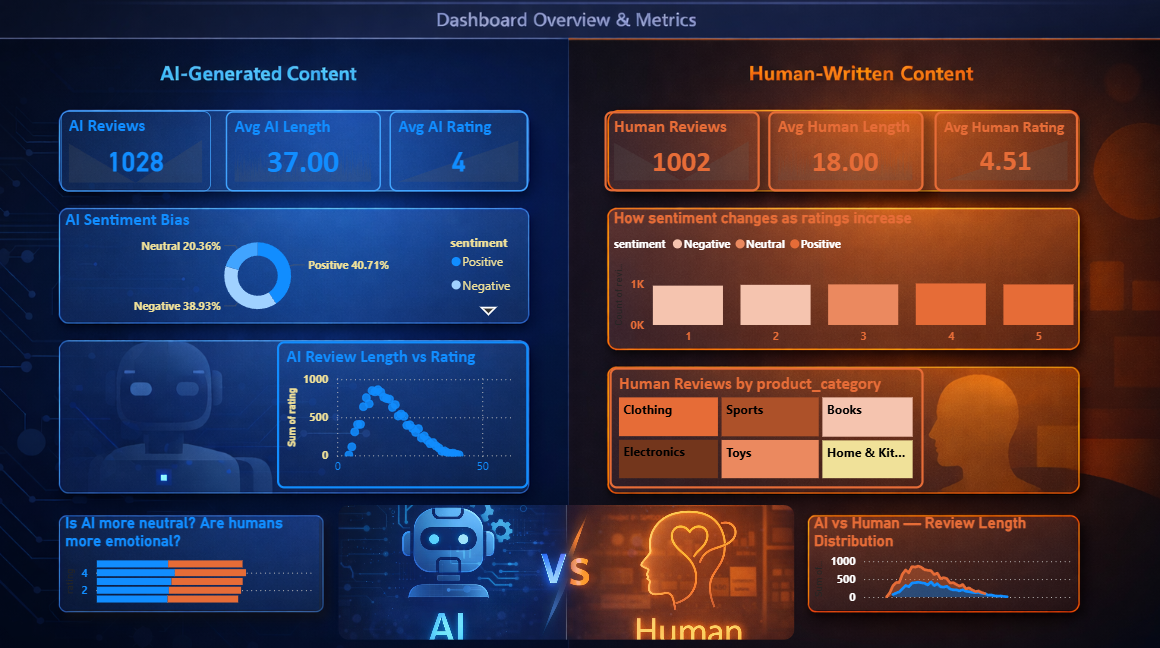

Layout of this report page (visuals, bound fields, positions):
{"tool":"powerbi","page":{"name":"Page 1","canvas":[1280,720],"ordinal":0},"visuals":[{"type":"donutChart","title":"AI Sentiment Bias","fields":{"Category":["Sheet1.sentiment"],"Y":["CountNonNull(Sheet1.review_type)"]},"box":[70,235,513.8,125],"z":0},{"type":"treemap","fields":{"Group":["Sheet1.product_category"],"Values":["Sheet1.Human Reviews"]},"box":[672.4,408.9,344.4,133.1],"z":1000},{"type":"kpi","title":"Avg AI Length","fields":{"Indicator":["Sheet1.Avg AI Length"],"TrendLine":["Sheet1.review_text"]},"box":[251.1,127.6,170.2,87.8],"z":2000},{"type":"kpi","title":"Avg AI Rating","fields":{"Indicator":["Sheet1.Avg AI Rating"],"TrendLine":["Sheet1.sentiment"]},"box":[430.9,127.6,152.3,87.8],"z":3000},{"type":"kpi","title":"AI Reviews","fields":{"Indicator":["Sheet1.AI Reviews"],"TrendLine":["Sheet1.sentiment"]},"box":[70,127.6,164.7,87.8],"z":4000},{"type":"kpi","title":"Human Reviews","fields":{"Indicator":["Sheet1.Human Reviews"],"TrendLine":["Sheet1.sentiment"]},"box":[666.9,127.6,170.2,87.8],"z":5000},{"type":"kpi","title":"Avg Human Length","fields":{"Indicator":["Sheet1.Avg Human Length"],"TrendLine":["Sheet1.review_text"]},"box":[846.7,127.6,170.2,87.8],"z":6000},{"type":"kpi","title":"Avg Human Rating","fields":{"Indicator":["Sheet1.Avg Human Rating"],"TrendLine":["Sheet1.sentiment"]},"box":[1029.2,127.6,157.8,87.8],"z":7000},{"type":"scatterChart","title":"AI Review Length vs Rating","fields":{"X":["Sheet1.review_length"],"Y":["Sum(Sheet1.rating)"]},"box":[307.4,380.1,275.8,161.9],"z":8000},{"type":"columnChart","title":"How sentiment changes as ratings increase","fields":{"Category":["Sheet1.rating"],"Series":["Sheet1.sentiment"],"Y":["CountNonNull(Sheet1.review_id)"]},"box":[672.4,234.6,514.6,157.8],"z":9000},{"type":"barChart","title":"Is AI more neutral? Are humans more emotional?","fields":{"Series":["Sheet1.review_type"],"Category":["Sheet1.rating"],"Y":["CountNonNull(Sheet1.sentiment)"]},"box":[70,569.5,284,105.7],"z":10000},{"type":"stackedAreaChart","title":"AI vs Human — Review Length Distribution","fields":{"Category":["Sheet1.review_length"],"Series":["Sheet1.review_type"],"Y":["Sum(Sheet1.rating)"]},"box":[891.9,569.5,295,105.7],"z":11000},{"type":"image","box":[374.6,559.9,500.9,148.2],"z":12000}]}

Visuals, with their boxes in screenshot pixels (x1, y1, x2, y2), scaled from the page's 1280x720 canvas onto the 1160x648 screenshot:
"AI Sentiment Bias" donutChart: Rect(63, 212, 529, 324)
treemap - Sheet1.product_category x Sheet1.Human Reviews: Rect(609, 368, 921, 488)
"Avg AI Length" kpi: Rect(228, 115, 382, 194)
"Avg AI Rating" kpi: Rect(391, 115, 529, 194)
"AI Reviews" kpi: Rect(63, 115, 213, 194)
"Human Reviews" kpi: Rect(604, 115, 759, 194)
"Avg Human Length" kpi: Rect(767, 115, 922, 194)
"Avg Human Rating" kpi: Rect(933, 115, 1076, 194)
"AI Review Length vs Rating" scatterChart: Rect(279, 342, 529, 488)
"How sentiment changes as ratings increase" columnChart: Rect(609, 211, 1076, 353)
"Is AI more neutral? Are humans more emotional?" barChart: Rect(63, 513, 321, 608)
"AI vs Human — Review Length Distribution" stackedAreaChart: Rect(808, 513, 1076, 608)
image: Rect(339, 504, 793, 637)
